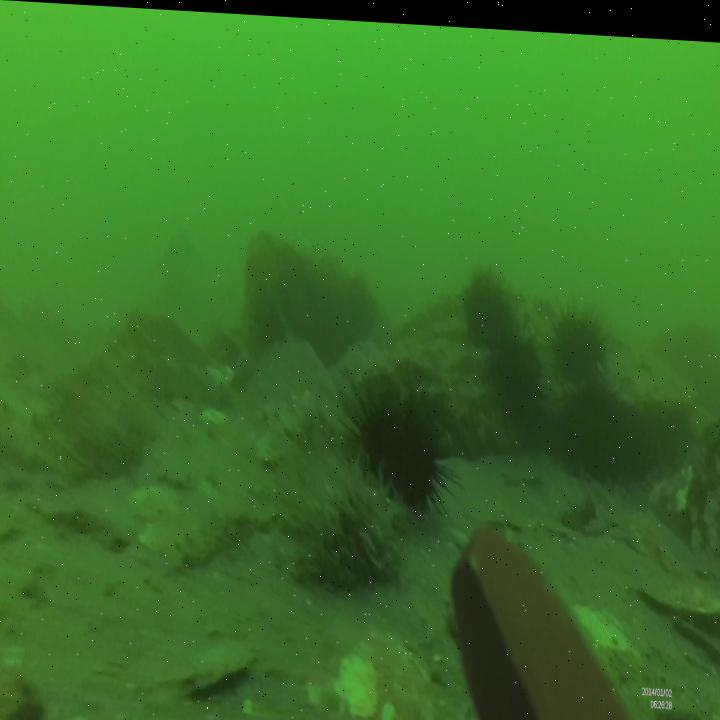echinus: (339, 364, 462, 516), (458, 252, 519, 346), (551, 286, 609, 376), (493, 326, 543, 410)
